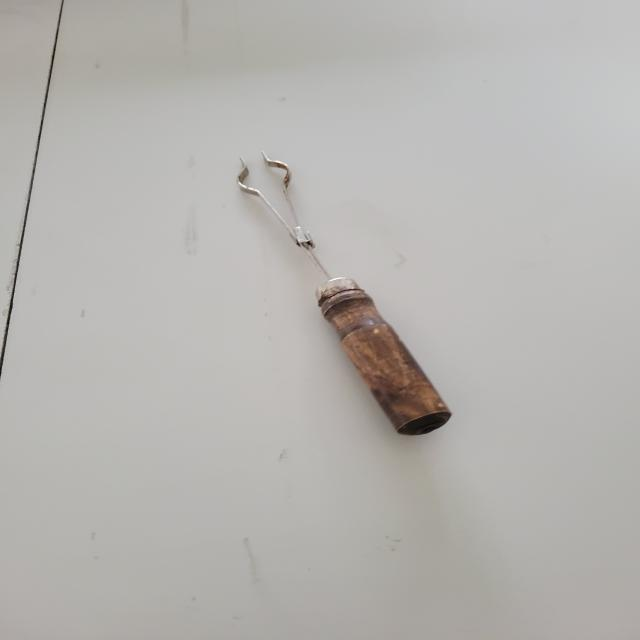TestTube_Holder: (197, 121, 470, 466)
